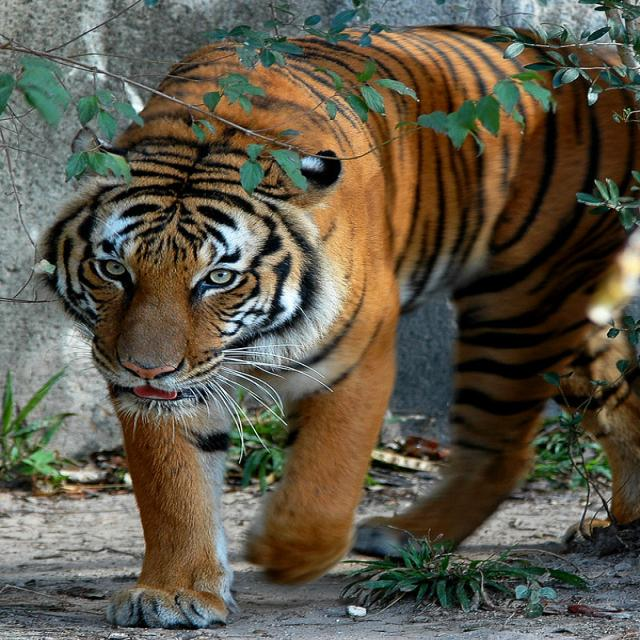Tiger: (22, 16, 628, 638)
